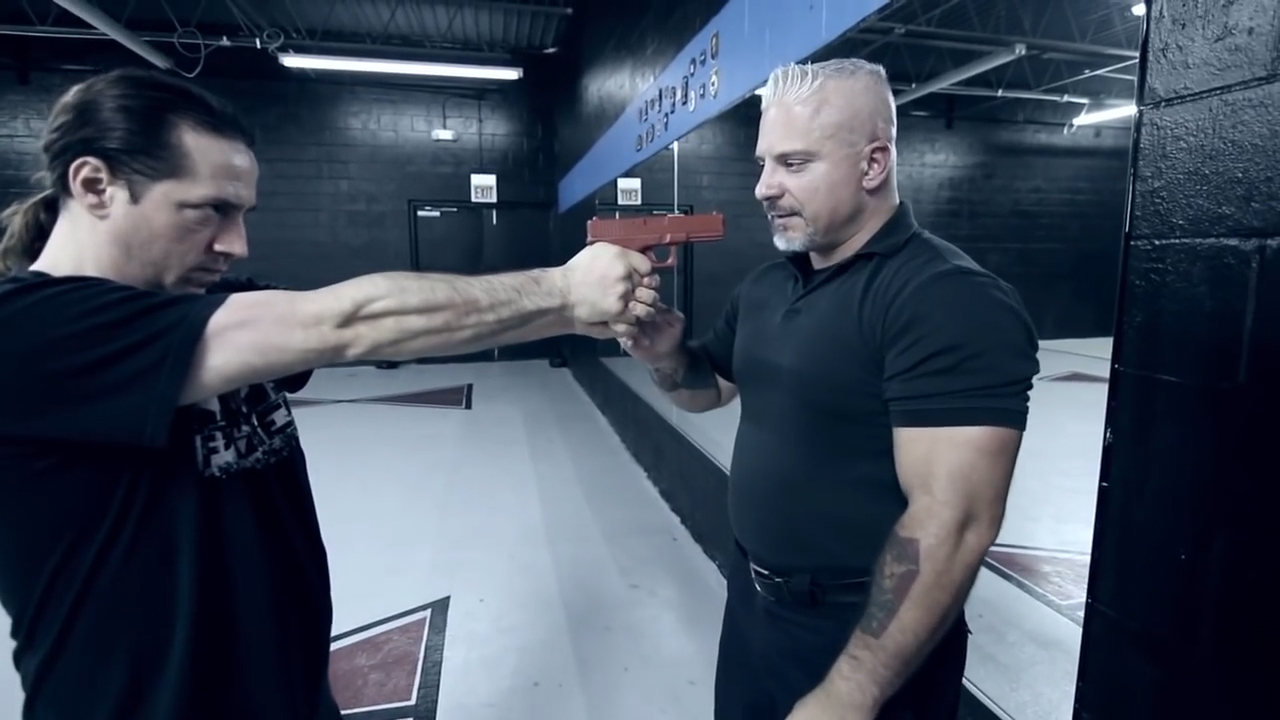pistol: (584, 209, 726, 273)
